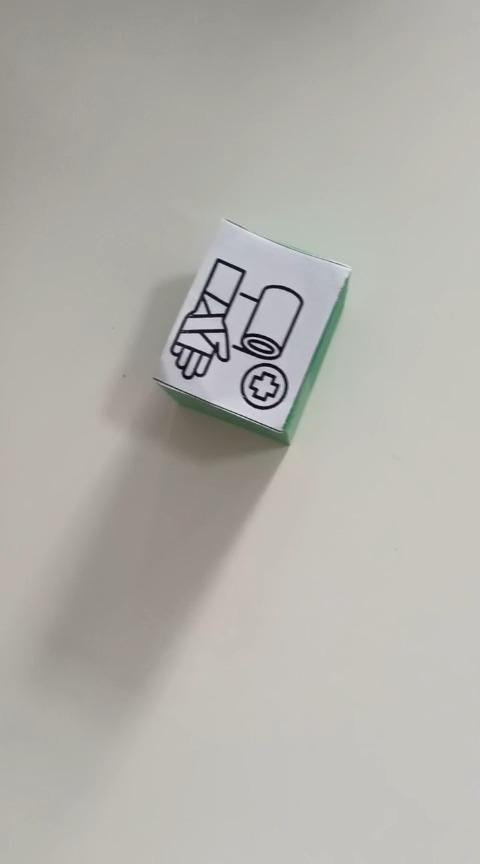Bandages: (151, 217, 351, 446)
